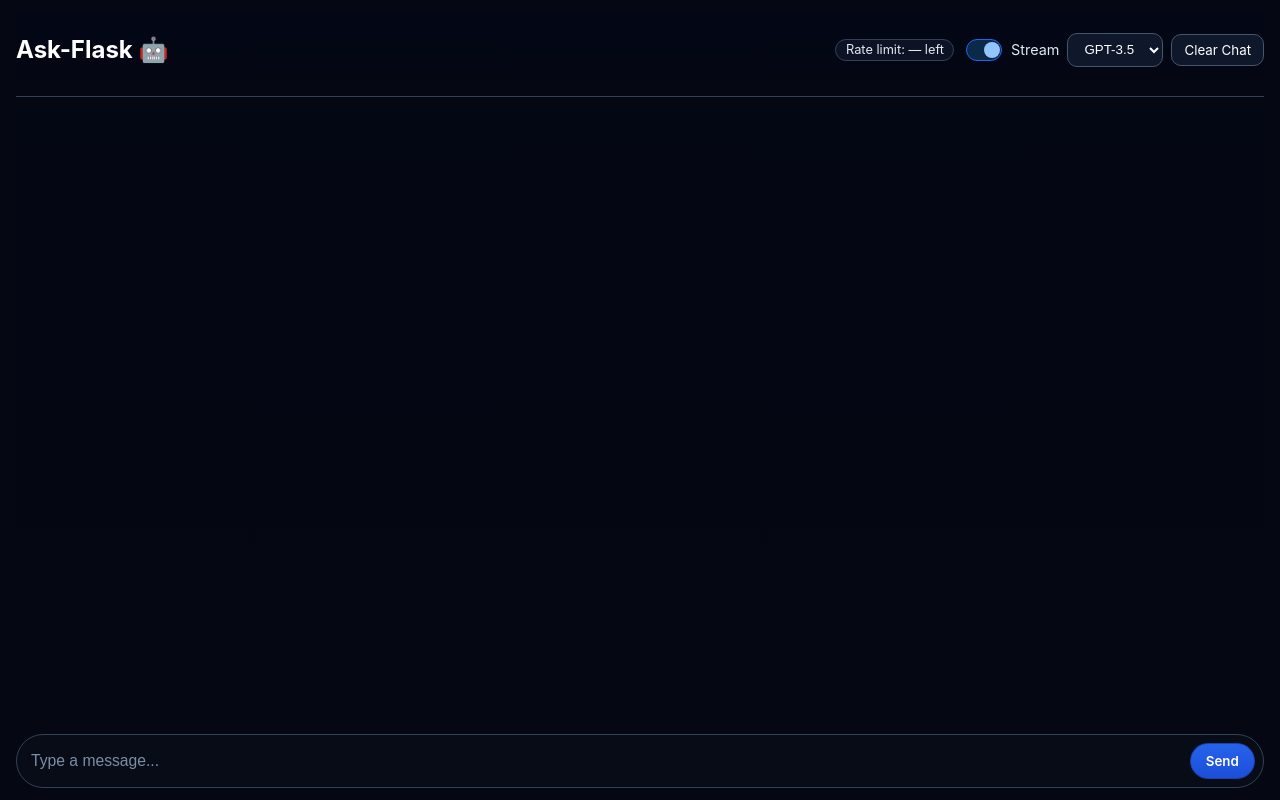
it: streams tokens via SSE and renders combined text
Type "hi" into the field with placeholder "Type a message..." at (605,761), box [29,751,1182,771]
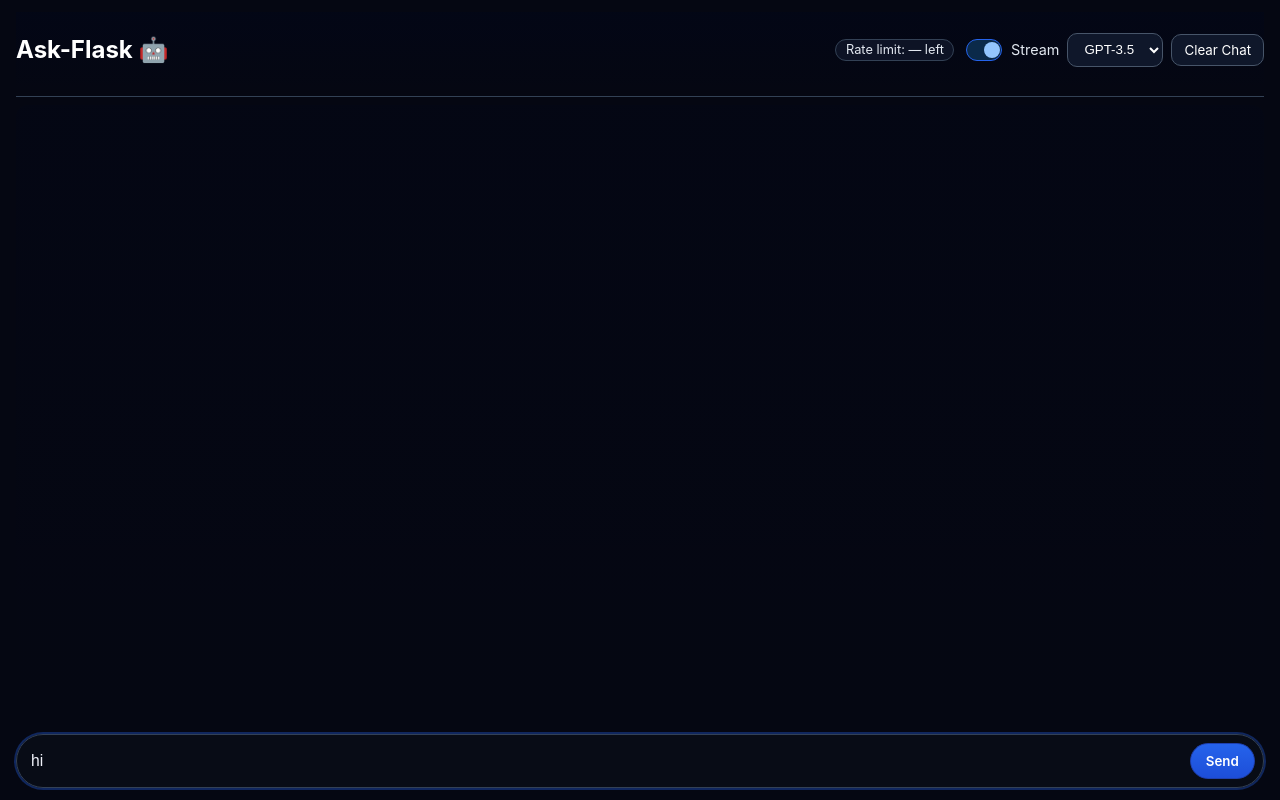
Click the button "Send" at (1222,761), box [1190,743,1255,779]
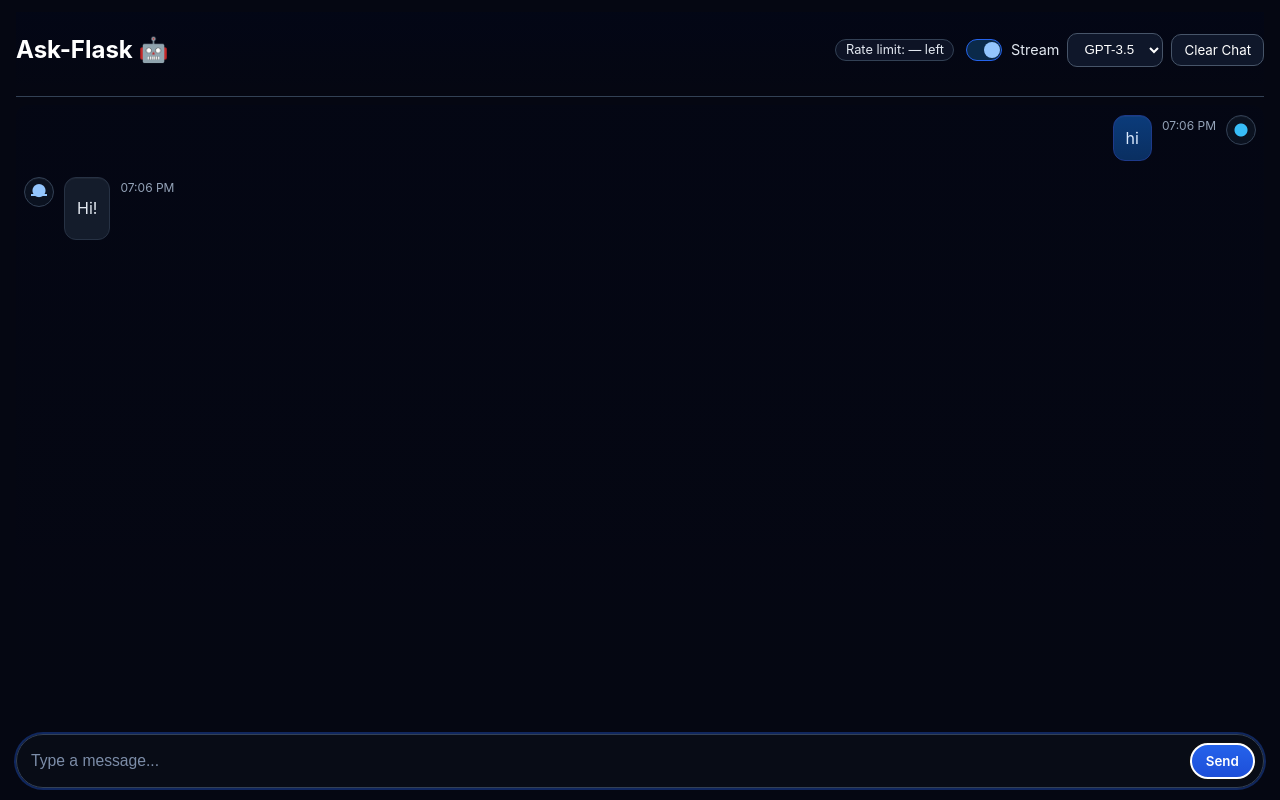
expect the text "Hi!" is shown: met, box [77,195,97,221]
